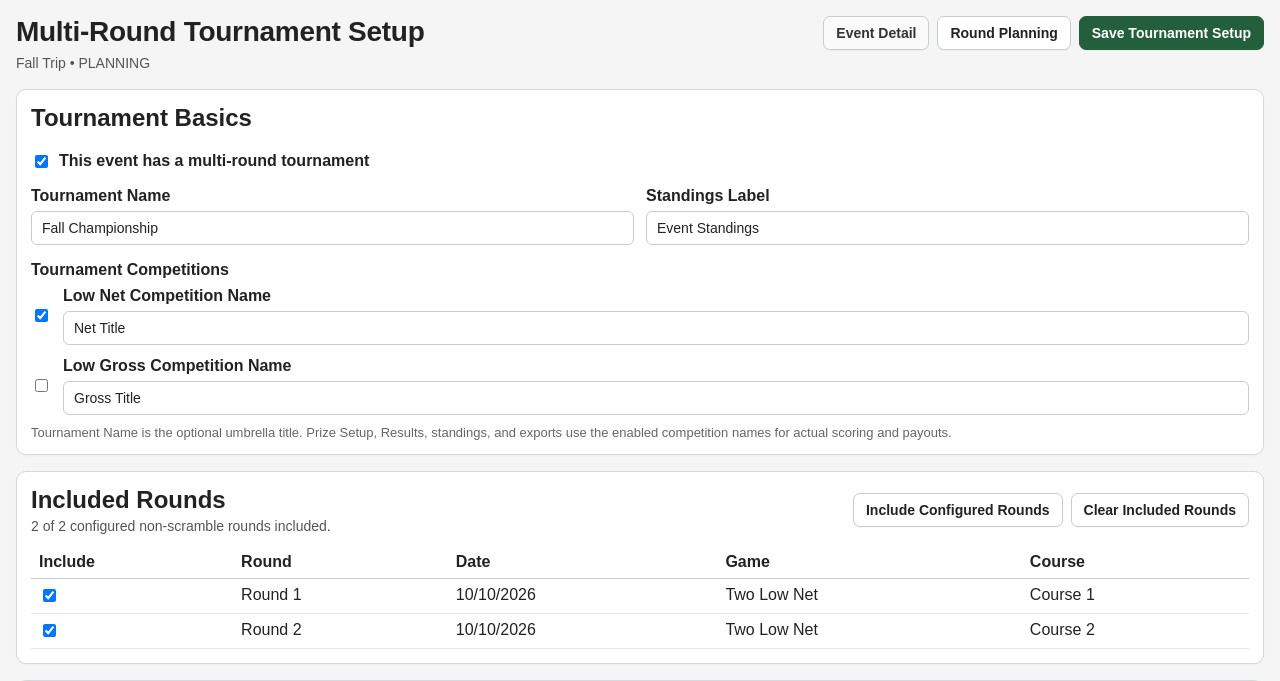
Test: Trip tournament setup page characterization (before extraction) › clears included rounds and blocks save until at least two are selected
Expected: the heading "Tournament Basics" is shown, [31, 104, 252, 131]
Click the button "Clear Included Rounds" at (1160, 510), box [1070, 493, 1249, 527]
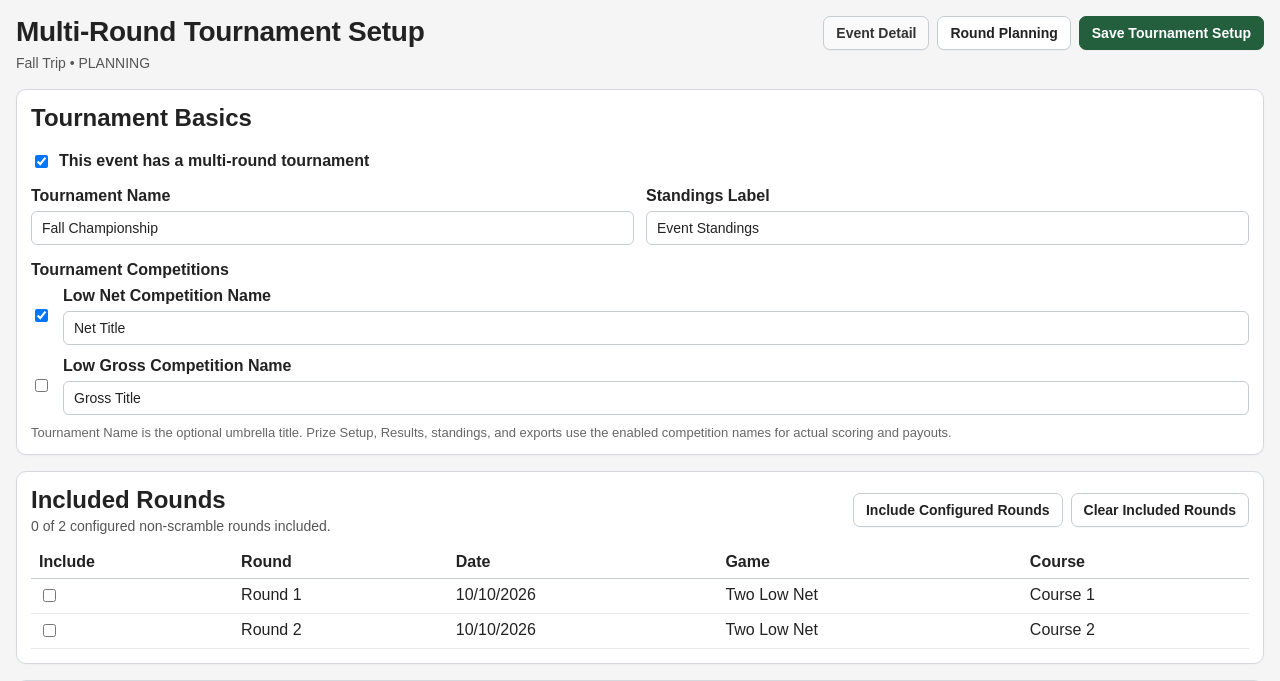
Now the text "0 of 2 configured non-scramble rounds included." is shown, box [31, 518, 331, 534]
Click the button "Save Tournament Setup" in the row of "Multi-Round Tournament Setup" at (1171, 33), box [1079, 16, 1264, 50]
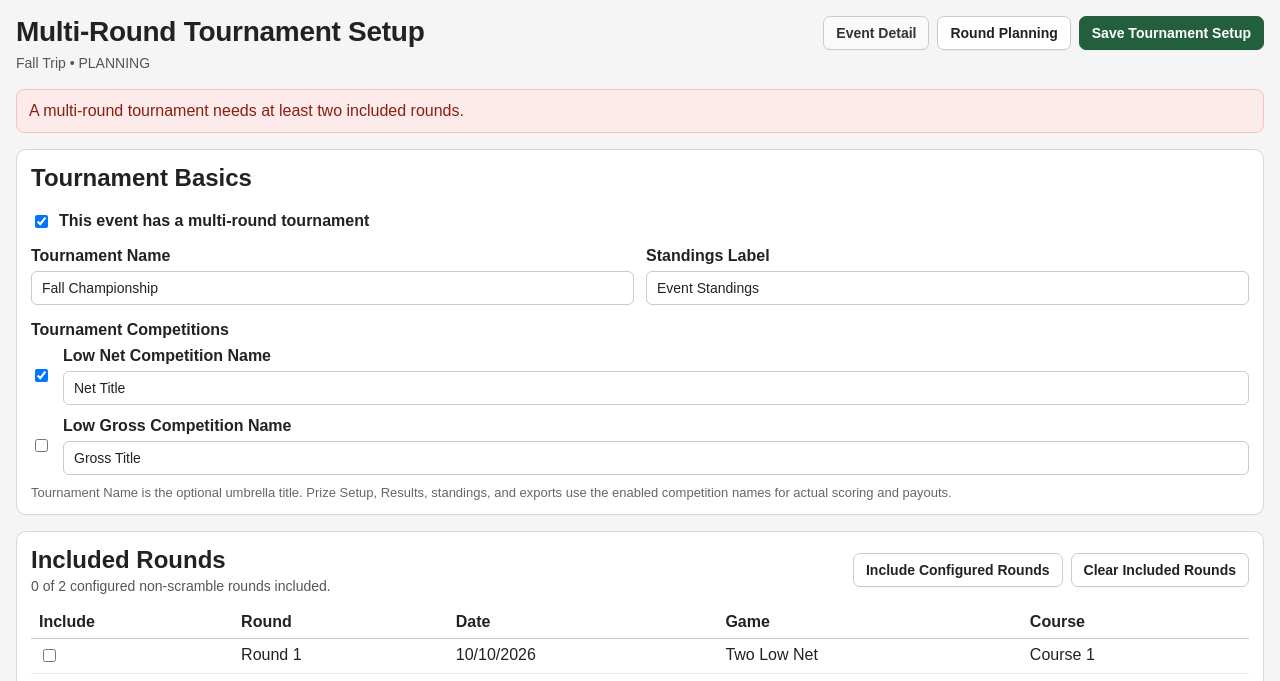
Now the text "A multi-round tournament needs at least two included rounds." is shown, box [16, 89, 1264, 133]
